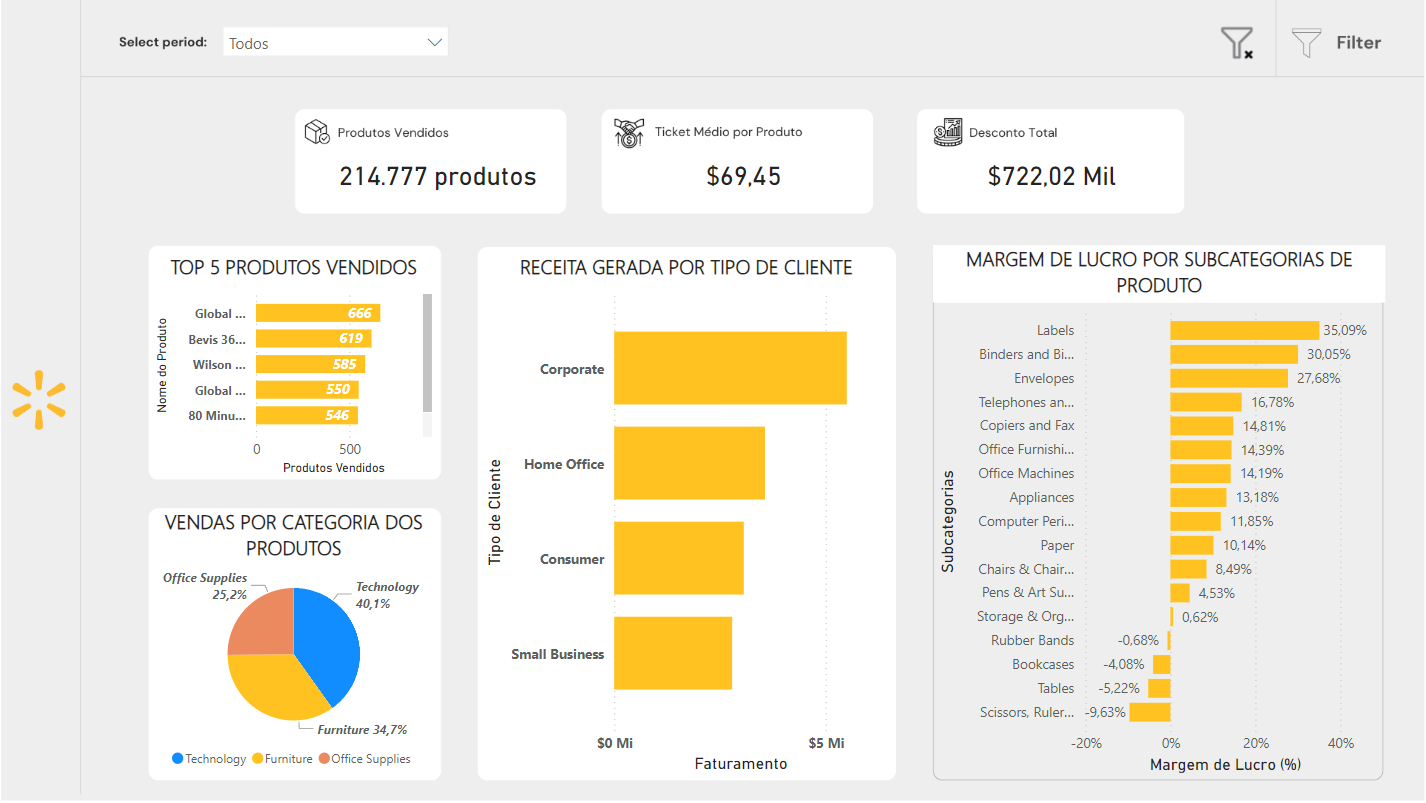

This screenshot's page, from the dashboard's own definition file:
{"tool":"powerbi","page":{"name":"Análise de Produtos(Versão Final)","canvas":[1280,720],"ordinal":1},"visuals":[{"type":"image","box":[0,0,1280,720.5],"z":500},{"type":"actionButton","box":[1084.2,22.8,42.6,40.6],"z":1000},{"type":"actionButton","box":[1152,24,100,40],"z":2000},{"type":"card","fields":{"Values":["walmart Retail Data.Desconto Total"]},"box":[825.9,134.1,229.9,53.7],"z":3000},{"type":"card","fields":{"Values":["walmart Retail Data.Ticket Médio"]},"box":[552.8,134.1,229.9,53.7],"z":4000},{"type":"card","fields":{"Values":["walmart Retail Data.Produtos Vendidos"]},"box":[280.7,134.1,229.9,53.7],"z":5000},{"type":"barChart","title":"RECEITA GERADA POR TIPO DE CLIENTE","fields":{"Category":["walmart Retail Data.Customer Segment"],"Y":["walmart Retail Data.Faturamento"]},"box":[434,229.9,366,465.6],"z":5062},{"type":"pieChart","title":"VENDAS POR CATEGORIA DOS PRODUTOS","fields":{"Y":["Sum(walmart Retail Data.Sales)"],"Category":["walmart Retail Data.Product Category"]},"box":[141,456,255,240],"z":5125},{"type":"barChart","title":"TOP 5 PRODUTOS VENDIDOS","fields":{"Category":["walmart Retail Data.Product Name"],"Y":["Sum(walmart Retail Data.Order Quantity)"]},"box":[140.8,229.9,254.9,201.2],"z":5250},{"type":"barChart","title":"MARGEM DE LUCRO POR SUBCATEGORIAS DE PRODUTO","fields":{"Y":["walmart Retail Data.Margem de Lucro (%)"],"Category":["walmart Retail Data.Product Sub-Category"]},"box":[835.4,222.3,401.4,473.3],"z":5500},{"type":"slicer","fields":{"Values":["walmart Retail Data.Order Date.Variation.Hierarquia de datas.Ano"]},"box":[195,19,221,49],"z":6000}]}

Visuals, with their boxes in screenshot pixels (x1, y1, x2, y2), scaled from the page's 1280x720 canvas onto the 1426x803 screenshot:
image: (0, 0, 1425, 802)
actionButton: (1208, 25, 1255, 71)
actionButton: (1283, 27, 1395, 71)
card - walmart Retail Data.Desconto Total: (920, 150, 1176, 209)
card - walmart Retail Data.Ticket Médio: (616, 150, 872, 209)
card - walmart Retail Data.Produtos Vendidos: (313, 150, 569, 209)
"RECEITA GERADA POR TIPO DE CLIENTE" barChart: (484, 256, 891, 776)
"VENDAS POR CATEGORIA DOS PRODUTOS" pieChart: (157, 509, 441, 776)
"TOP 5 PRODUTOS VENDIDOS" barChart: (157, 256, 441, 481)
"MARGEM DE LUCRO POR SUBCATEGORIAS DE PRODUTO" barChart: (931, 248, 1378, 776)
slicer - walmart Retail Data.Order Date.Variation.Hierarquia de datas.Ano: (217, 21, 463, 76)
